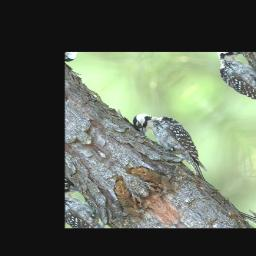Woodpecker: (128, 99, 225, 186)
